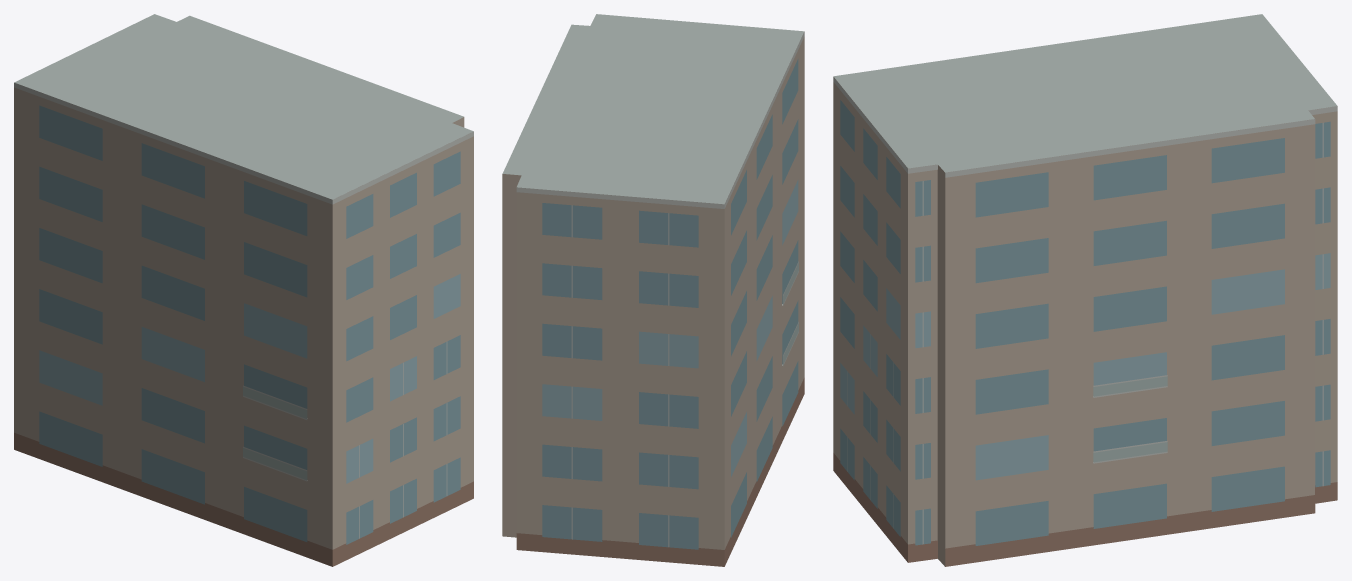
Rendered from survey-upis-32914919.glb.
3 renders of one model, left to right at view 1: azimuth 30°, elevation 25°; view 2: azimuth 150°, elevation 25°; view 3: azimuth 270°, elevation 25°, orthographic. The views are drawn at different scales.
Visible parts, largest first — view 1: survey-upis-32914919.tmp; view 2: survey-upis-32914919.tmp; view 3: survey-upis-32914919.tmp.
Boxes of the visible parts, x1=… form: survey-upis-32914919.tmp: x1=14, y1=14, x2=473, y2=566; survey-upis-32914919.tmp: x1=502, y1=14, x2=804, y2=566; survey-upis-32914919.tmp: x1=833, y1=14, x2=1337, y2=566.
Size of the model in its own units: 15.8 by 18.3 by 21.23.
